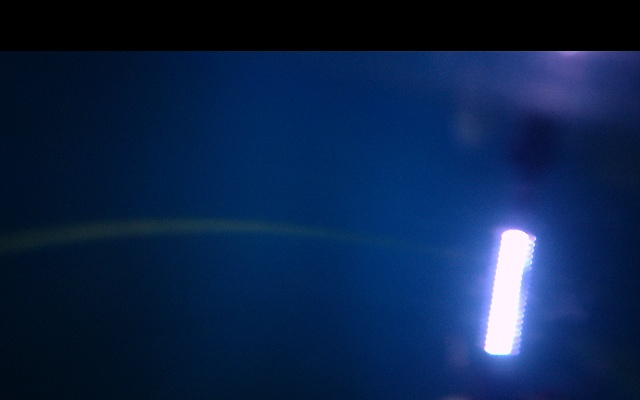white: (482, 229, 535, 356)
